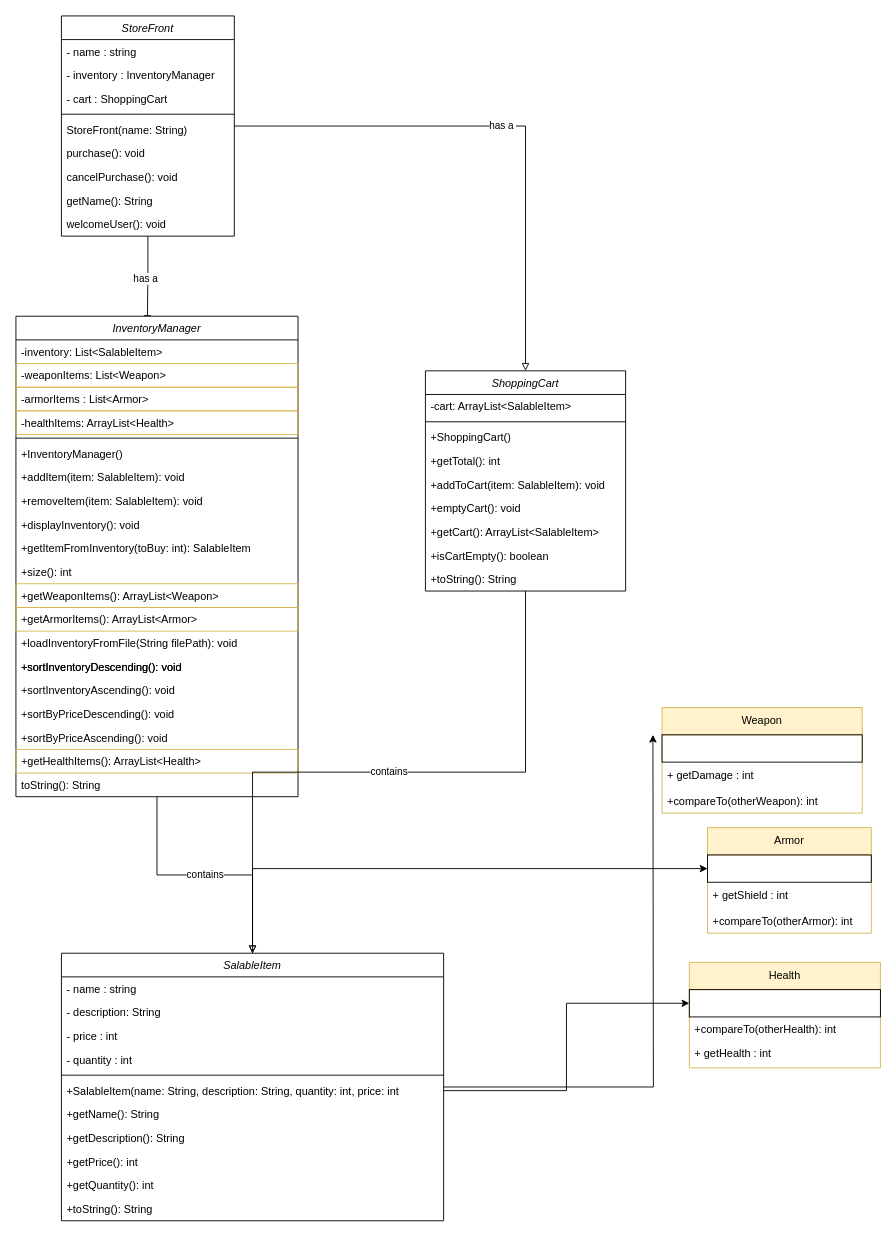
This 896x1239 diagram has some shape labels left out. Each missing label, with the centre of its shape:
- damage : int: (x=761, y=748)
- health: int: (x=784, y=1003)
- shield : int: (x=789, y=868)
